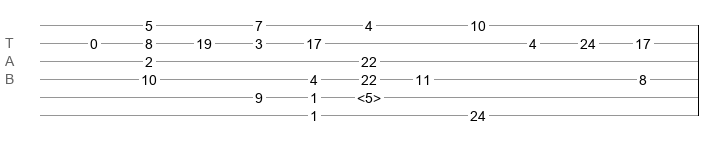0: (90, 36, 98, 46)
1: (310, 108, 318, 118), (310, 90, 318, 100)
10: (141, 72, 157, 82), (470, 18, 486, 28)
11: (415, 72, 431, 82)
17: (306, 36, 322, 46), (635, 36, 651, 46)
19: (196, 36, 212, 46)
2: (145, 54, 153, 64)
22: (361, 72, 377, 82), (361, 54, 377, 64)
24: (470, 108, 486, 118), (580, 36, 596, 46)
3: (255, 36, 263, 46)
4: (310, 72, 318, 82), (365, 18, 373, 28), (529, 36, 537, 46)
5: (145, 18, 153, 28)
7: (255, 18, 263, 28)
8: (145, 36, 153, 46), (639, 72, 647, 82)
9: (255, 90, 263, 100)
harmonic: (357, 90, 381, 100)
